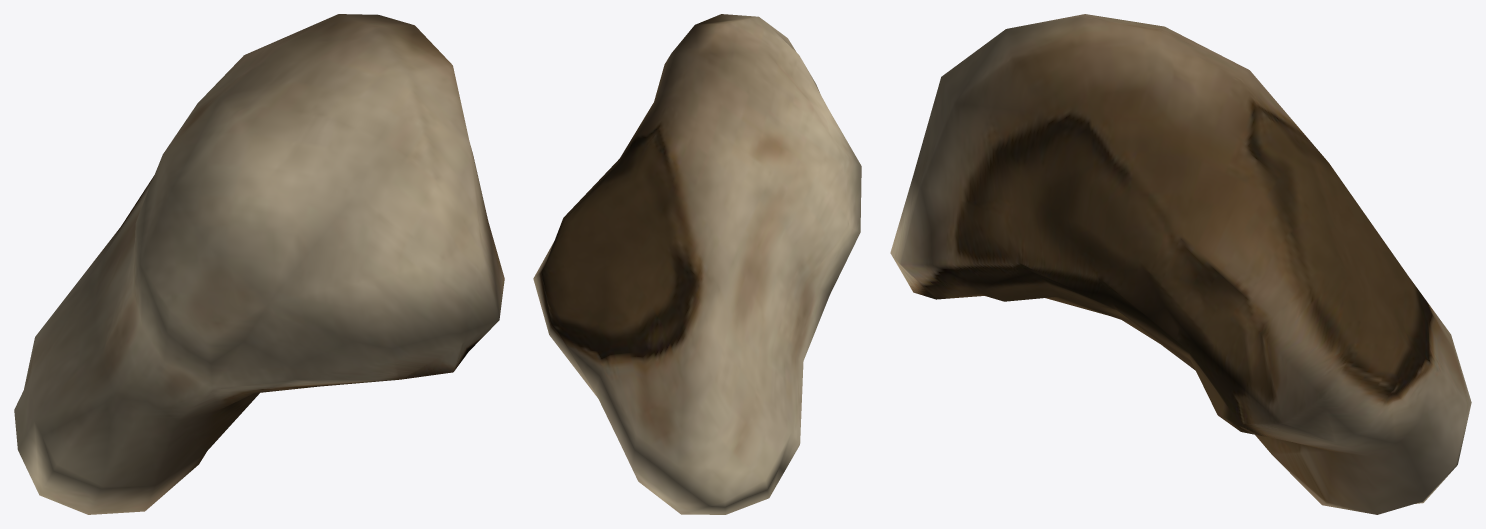
Rendered from Ulnar.glb.
3 renders of one model, left to right at view 1: azimuth 30°, elevation 25°; view 2: azimuth 150°, elevation 25°; view 3: azimuth 270°, elevation 25°, orthographic. The views are drawn at different scales.
Parts seen in each view (by area): view 1: Ulnar_Right1:Group16114; view 2: Ulnar_Right1:Group16114; view 3: Ulnar_Right1:Group16114.
Part boxes in pixels (x1,y1,x2,y2): Ulnar_Right1:Group16114: [14, 14, 504, 514]; Ulnar_Right1:Group16114: [533, 14, 861, 514]; Ulnar_Right1:Group16114: [890, 14, 1471, 514].
Size of the model in its own units: 10.49 by 14.58 by 14.17.
Materials: 1 (1 with a texture image).
